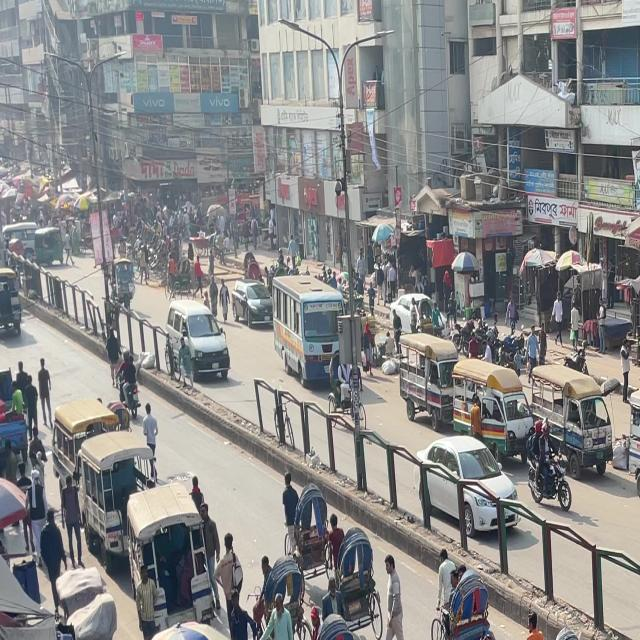car: (413, 436, 522, 539), (161, 290, 235, 388)
motorbike: (112, 350, 143, 419)
van: (120, 474, 230, 640), (526, 353, 618, 482), (263, 266, 353, 390), (74, 426, 159, 555), (452, 352, 538, 464), (48, 393, 121, 517), (389, 326, 466, 423), (619, 375, 640, 496)
